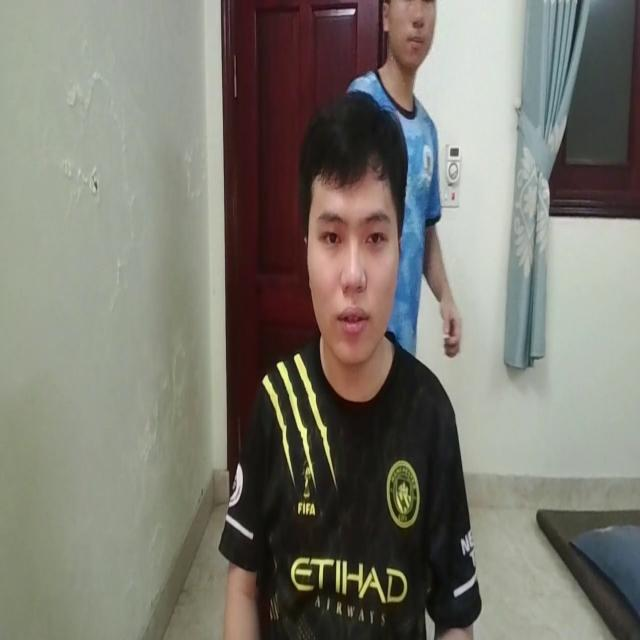extra_person: (348, 0, 466, 360)
student: (231, 94, 468, 640)
